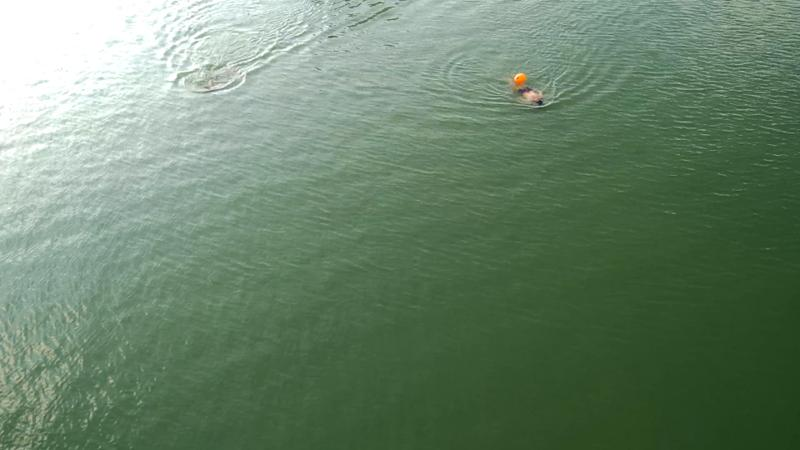swimmers: (508, 78, 545, 106)
